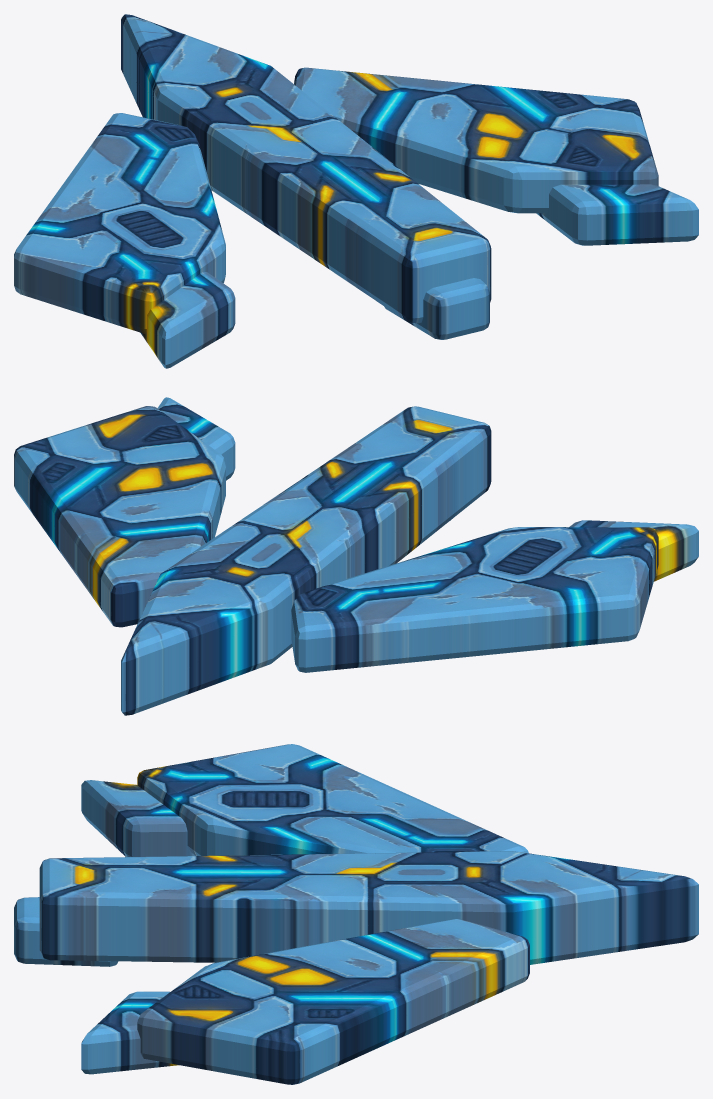
Rendered from drone.glb.
3 views of the same model, one above another, from view 1: azimuth 30°, elevation 25°; view 2: azimuth 150°, elevation 25°; view 3: azimuth 270°, elevation 25° (orthographic).
Parts seen in each view (by area): view 1: DroneHull; view 2: DroneHull; view 3: DroneHull.
Part boxes in pixels (x1=…): DroneHull: x1=14, y1=14, x2=698, y2=368; DroneHull: x1=14, y1=397, x2=698, y2=715; DroneHull: x1=14, y1=744, x2=698, y2=1084.
Size of the model in its own units: 5.59 by 0.68 by 5.36.
1 material, 1 textured.
